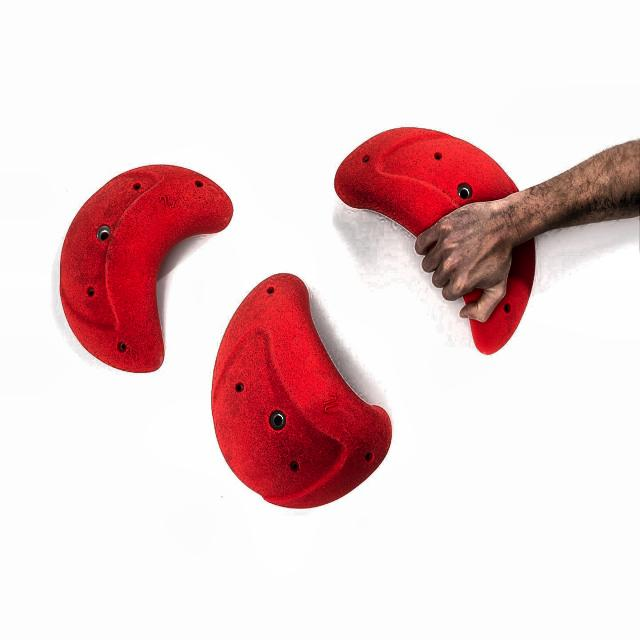Hold: (311, 116, 559, 377), (200, 263, 413, 542), (37, 150, 252, 387)
